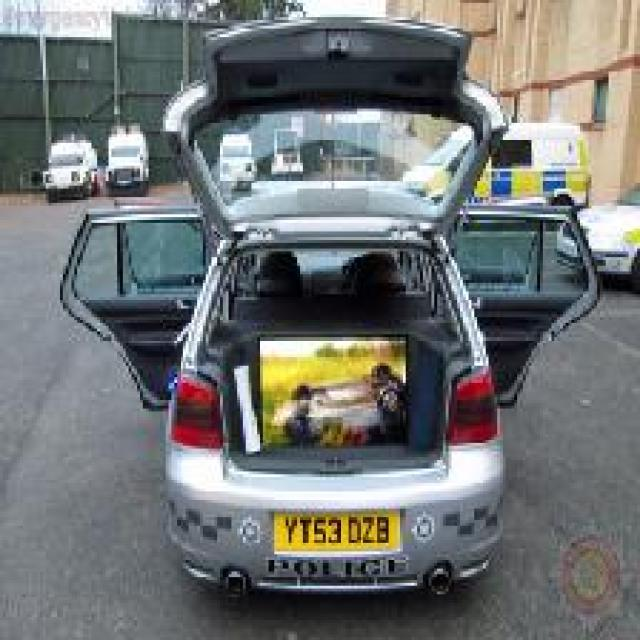Car: (57, 11, 600, 600)
